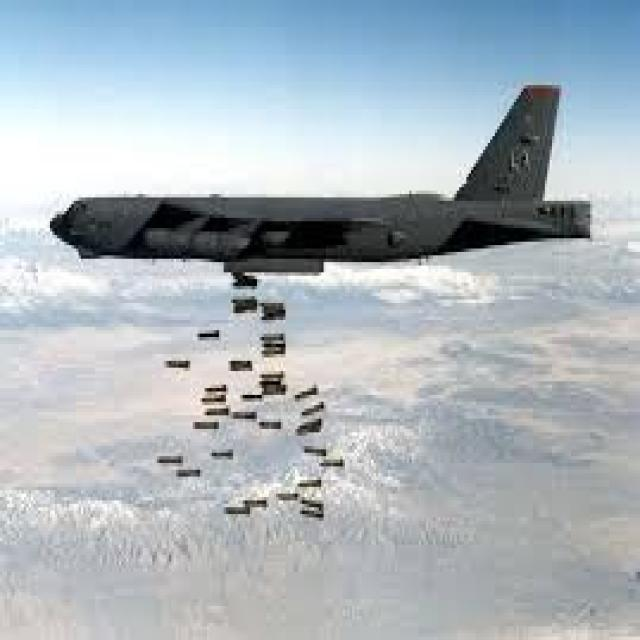B52: (33, 76, 636, 306)
